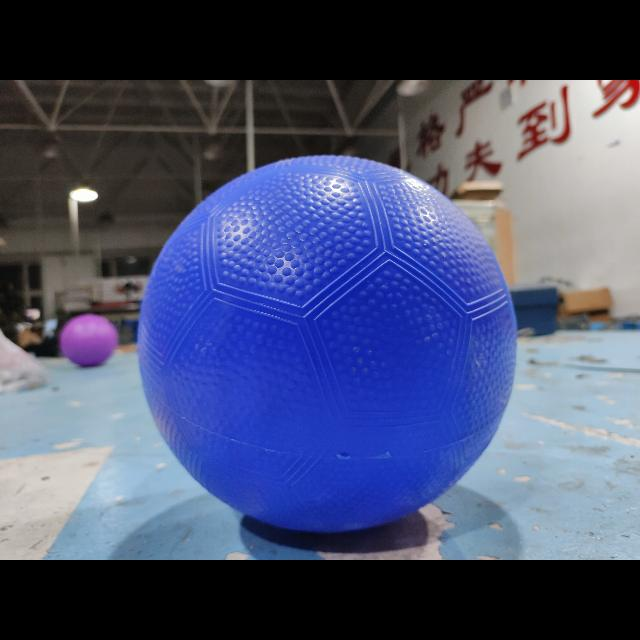B: (136, 153, 520, 534)
P: (59, 312, 119, 368)
